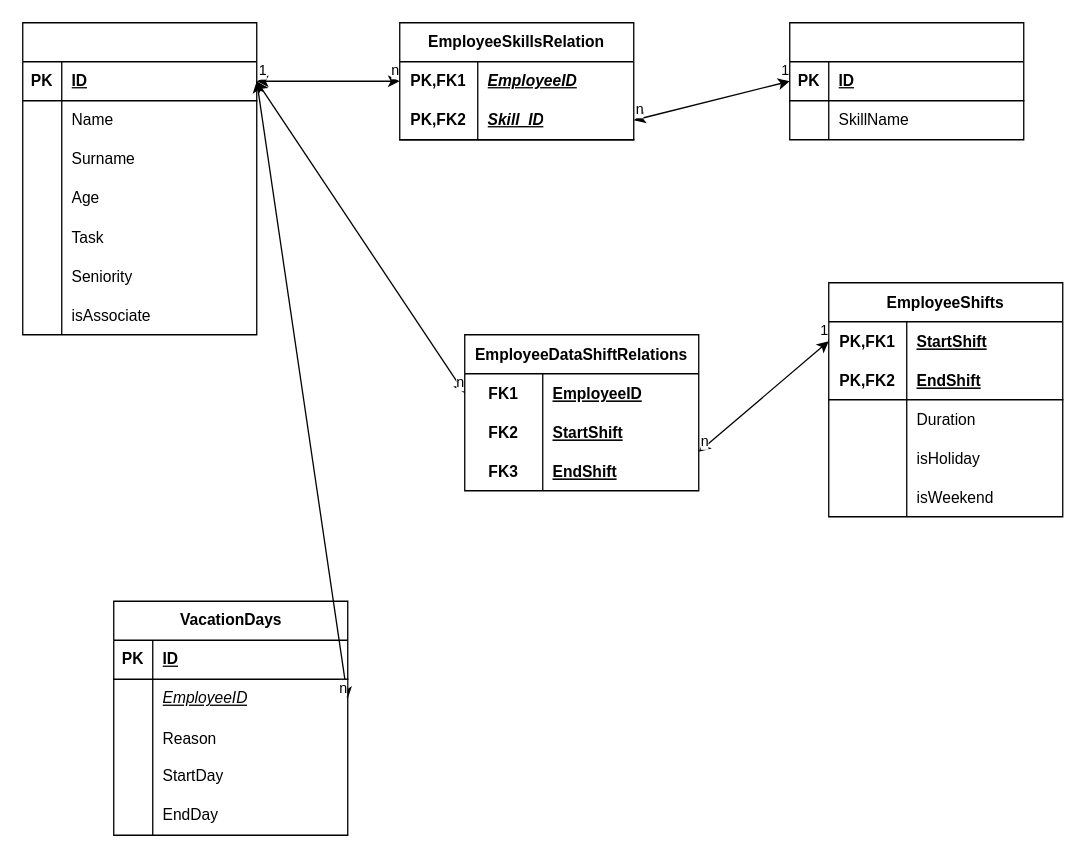
This 1086x858 diagram has some shape labels left out. The shapes that lost their labels are listed below. From the top down, each one's box as (x1, y1, x2, y2) in pixels, then its label:
(788, 21, 1024, 140): EmployeeSkills
(21, 21, 257, 335): EmployeePersonalData
